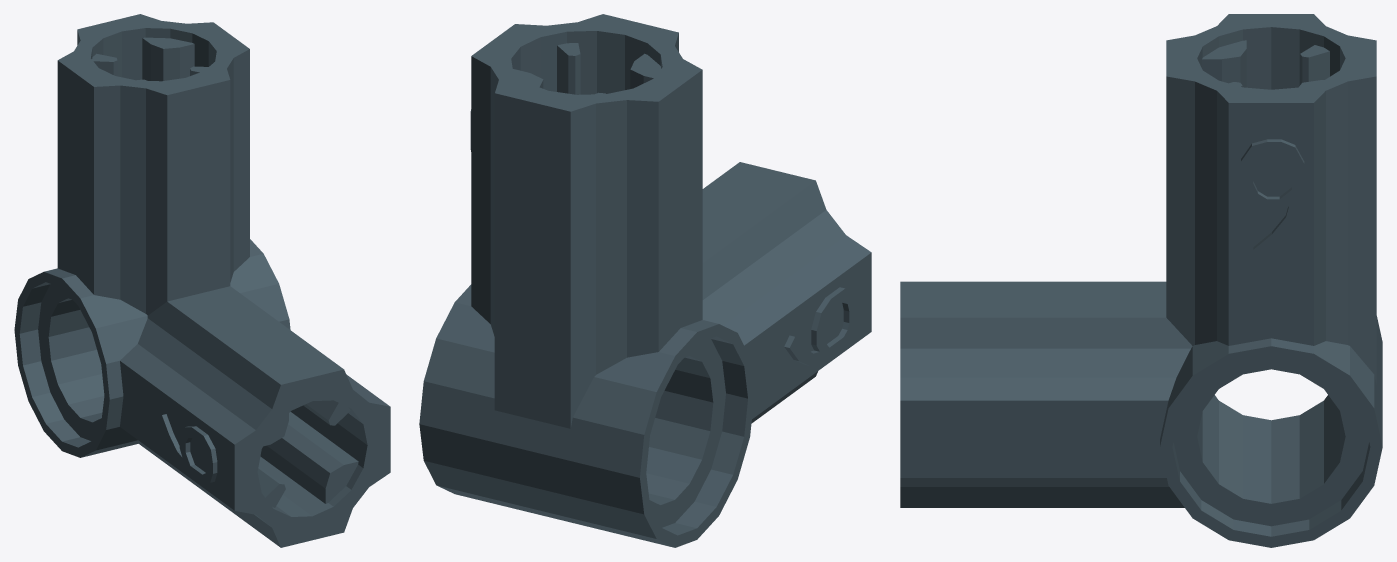
The picture shows the model from 3 angles, left to right: view 1: azimuth 30°, elevation 25°; view 2: azimuth 150°, elevation 25°; view 3: azimuth 270°, elevation 25°; orthographic projection. The views are drawn at different scales.
Visible parts, largest first — view 1: world; view 2: world; view 3: world.
Part boxes in pixels (box(x1,y1,x2,y2)): world: box(14, 14, 390, 547); world: box(419, 14, 871, 547); world: box(900, 14, 1382, 547).
Bounding box in the file's own units: 0.008 × 0.0156 × 0.0156.
